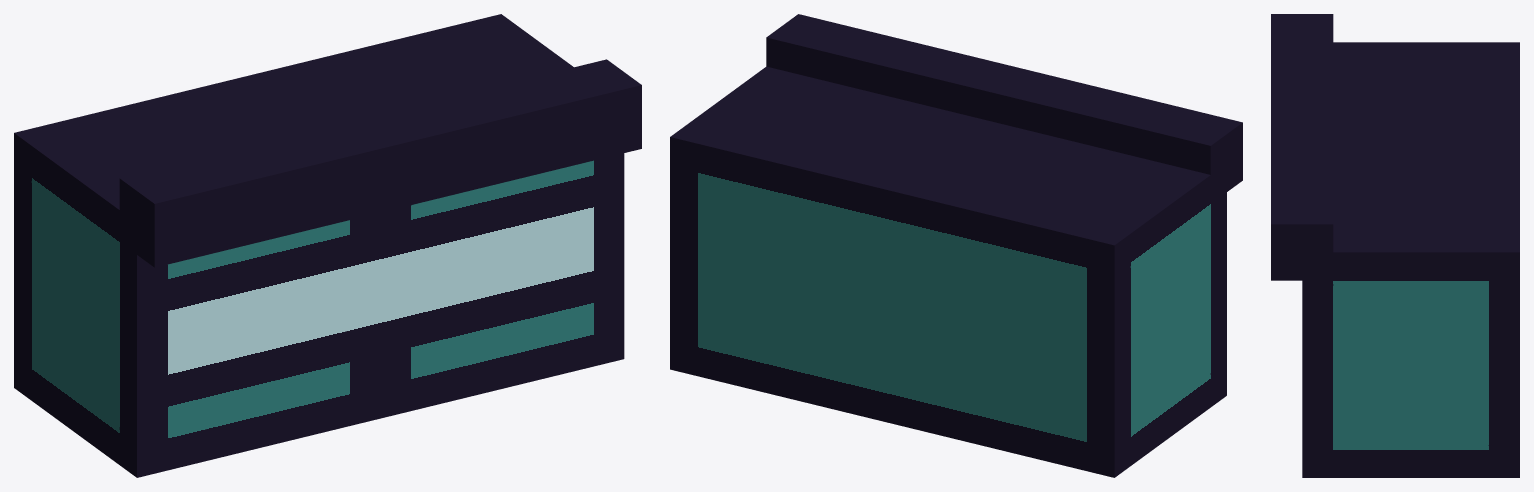
The model's file is ladaciemna.dae.
The picture shows the model from 3 angles, left to right: view 1: azimuth 30°, elevation 25°; view 2: azimuth 150°, elevation 25°; view 3: azimuth 270°, elevation 25°; orthographic projection. The views are drawn at different scales.
Parts seen in each view (by area): view 1: lada2; view 2: lada2; view 3: lada2.
Part boxes in pixels (x1=…): lada2: x1=14, y1=14, x2=641, y2=477; lada2: x1=670, y1=14, x2=1242, y2=477; lada2: x1=1271, y1=14, x2=1519, y2=477.
Size of the model in its own units: 16 by 9 by 8.
Materials: 1 (1 with a texture image).
